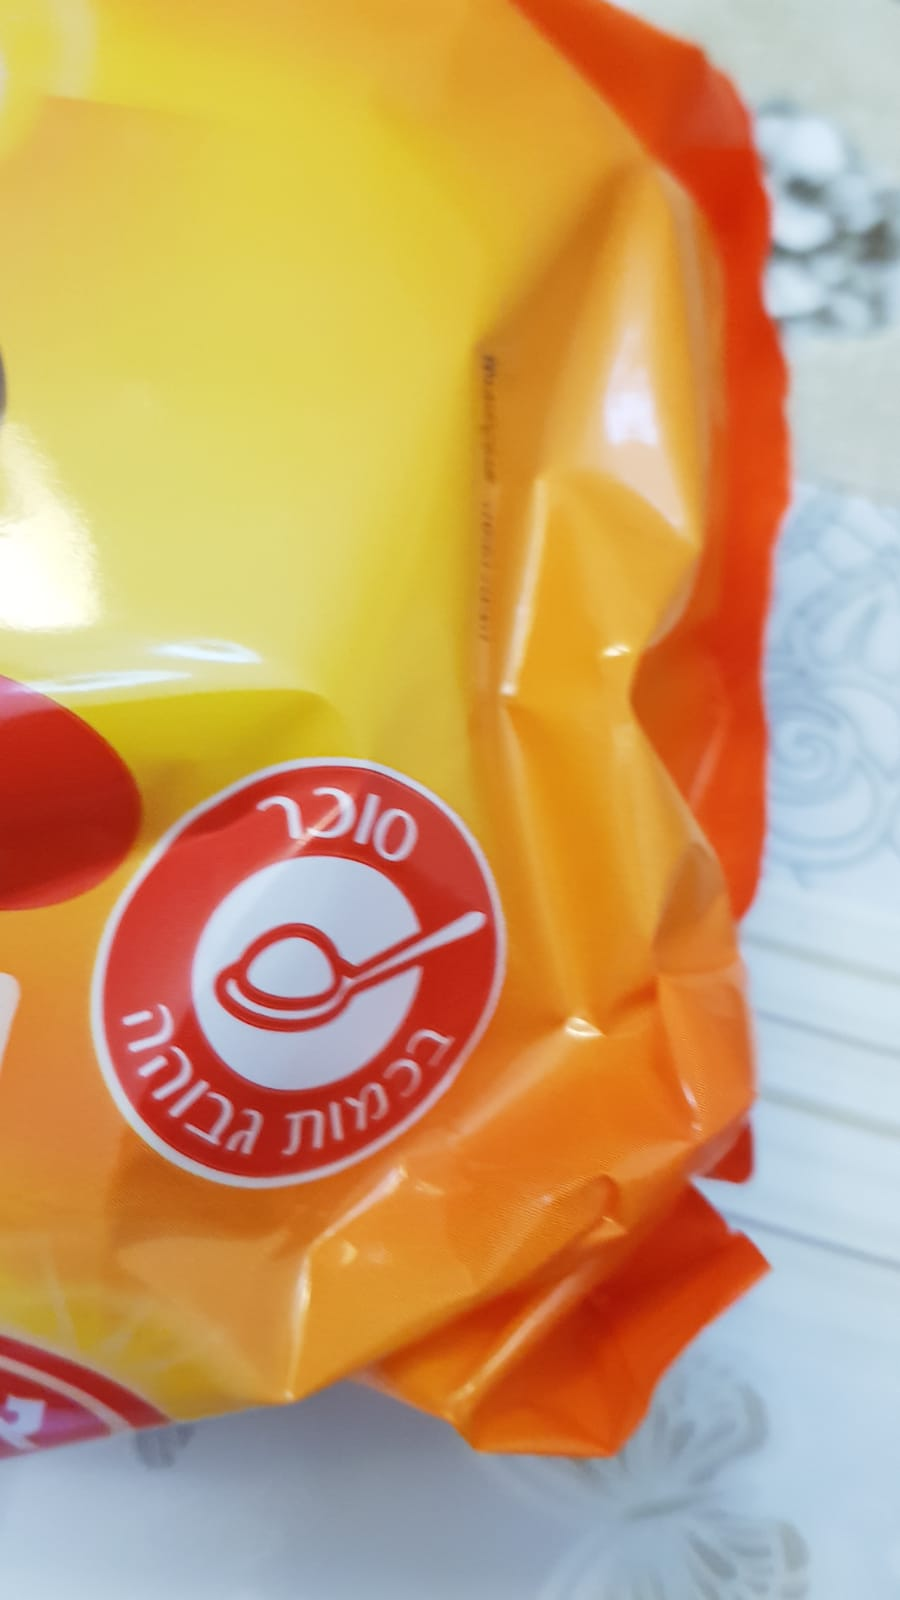sugar: (89, 758, 509, 1190)
